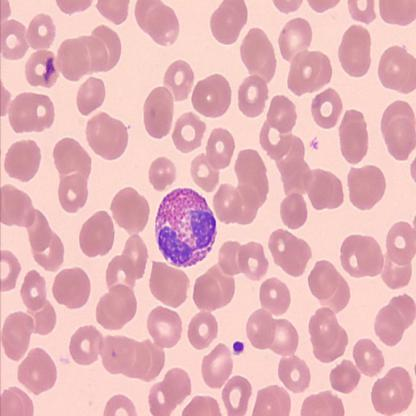Eosinophil: (152, 185, 217, 271)
